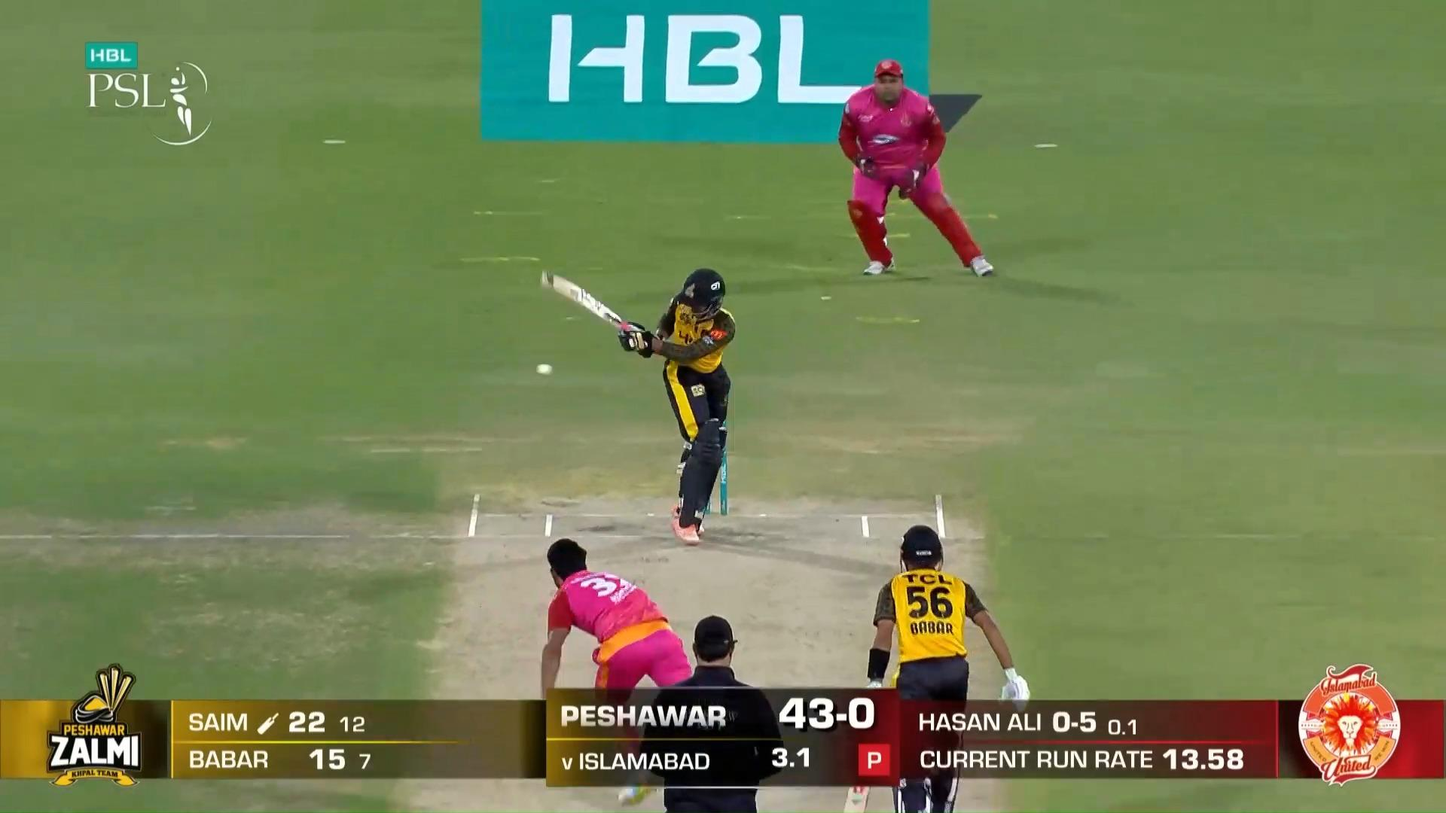batsman: (541, 268, 736, 545)
